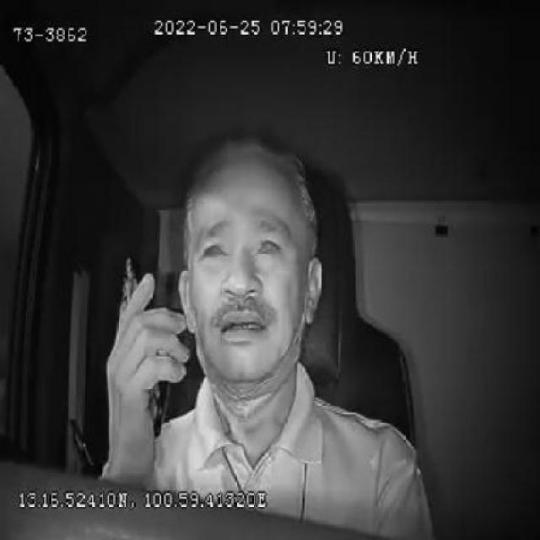phone: (117, 253, 172, 441)
